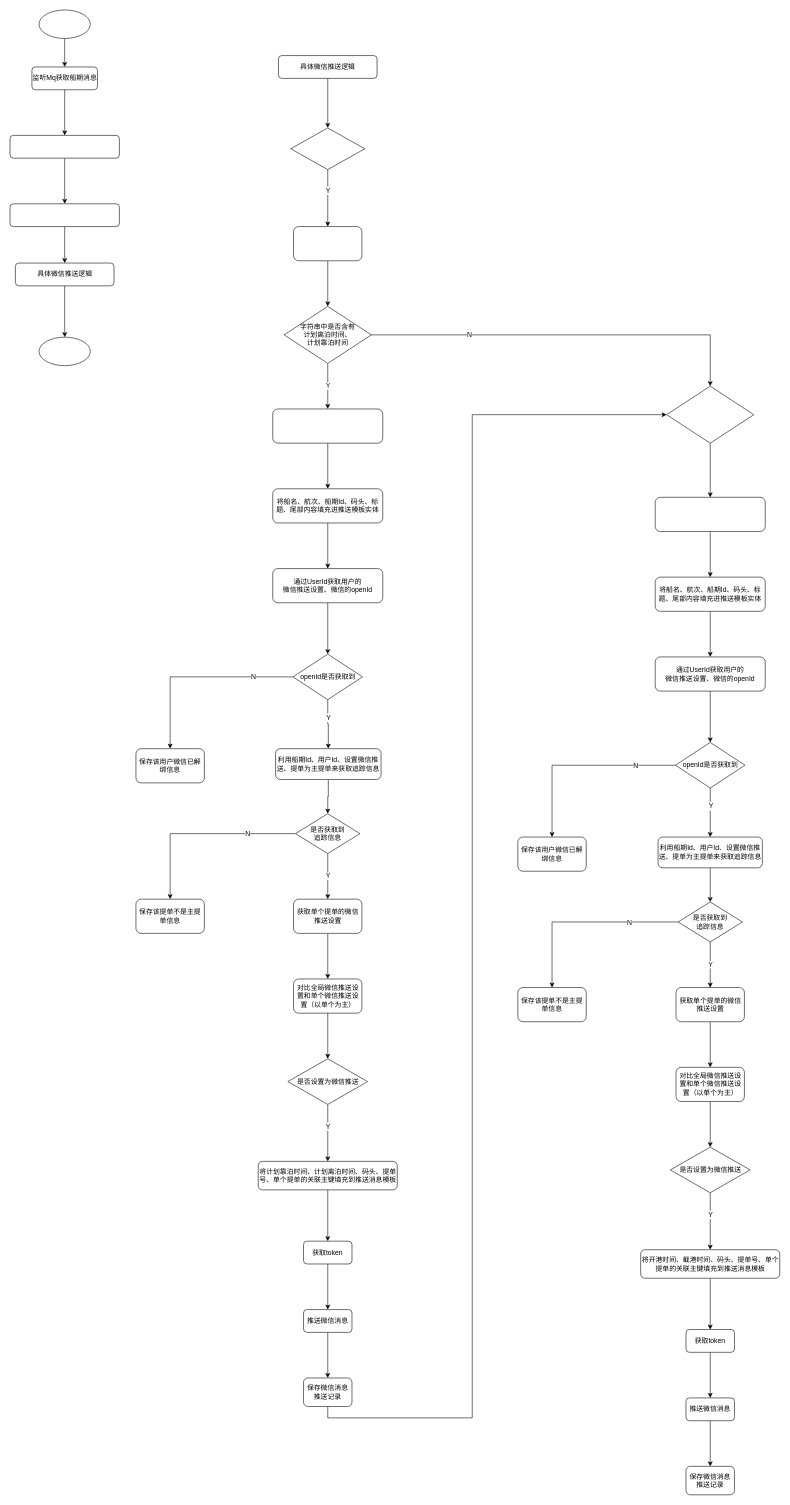
Image size: 790x1505. Some labels were removed from this diagram. Here are the shapes that lost their labels. From the top down, the box of each, then its label:
(38, 9, 90, 38): 开始
(9, 135, 119, 158): 通过新数据的船期Id、船名、航次获取追踪的用户的信息的UserId
(290, 127, 365, 170): Map中是否含有 新生成的数据
(9, 203, 119, 227): 将新老船期的数据进行对比，封装在Map对象中
(293, 226, 362, 261): 将新生成的数据转化成Json字符串
(38, 337, 90, 366): 结束
(272, 408, 383, 443): 将计划离泊时间、计划靠泊时间的UTC时间格式替换为北京时间格式
(666, 386, 754, 443): 字符串中是否含有 开港时间、 截港时间
(655, 497, 765, 532): 将开港时间、截港时间的UTC时间格式替换为北京时间格式
